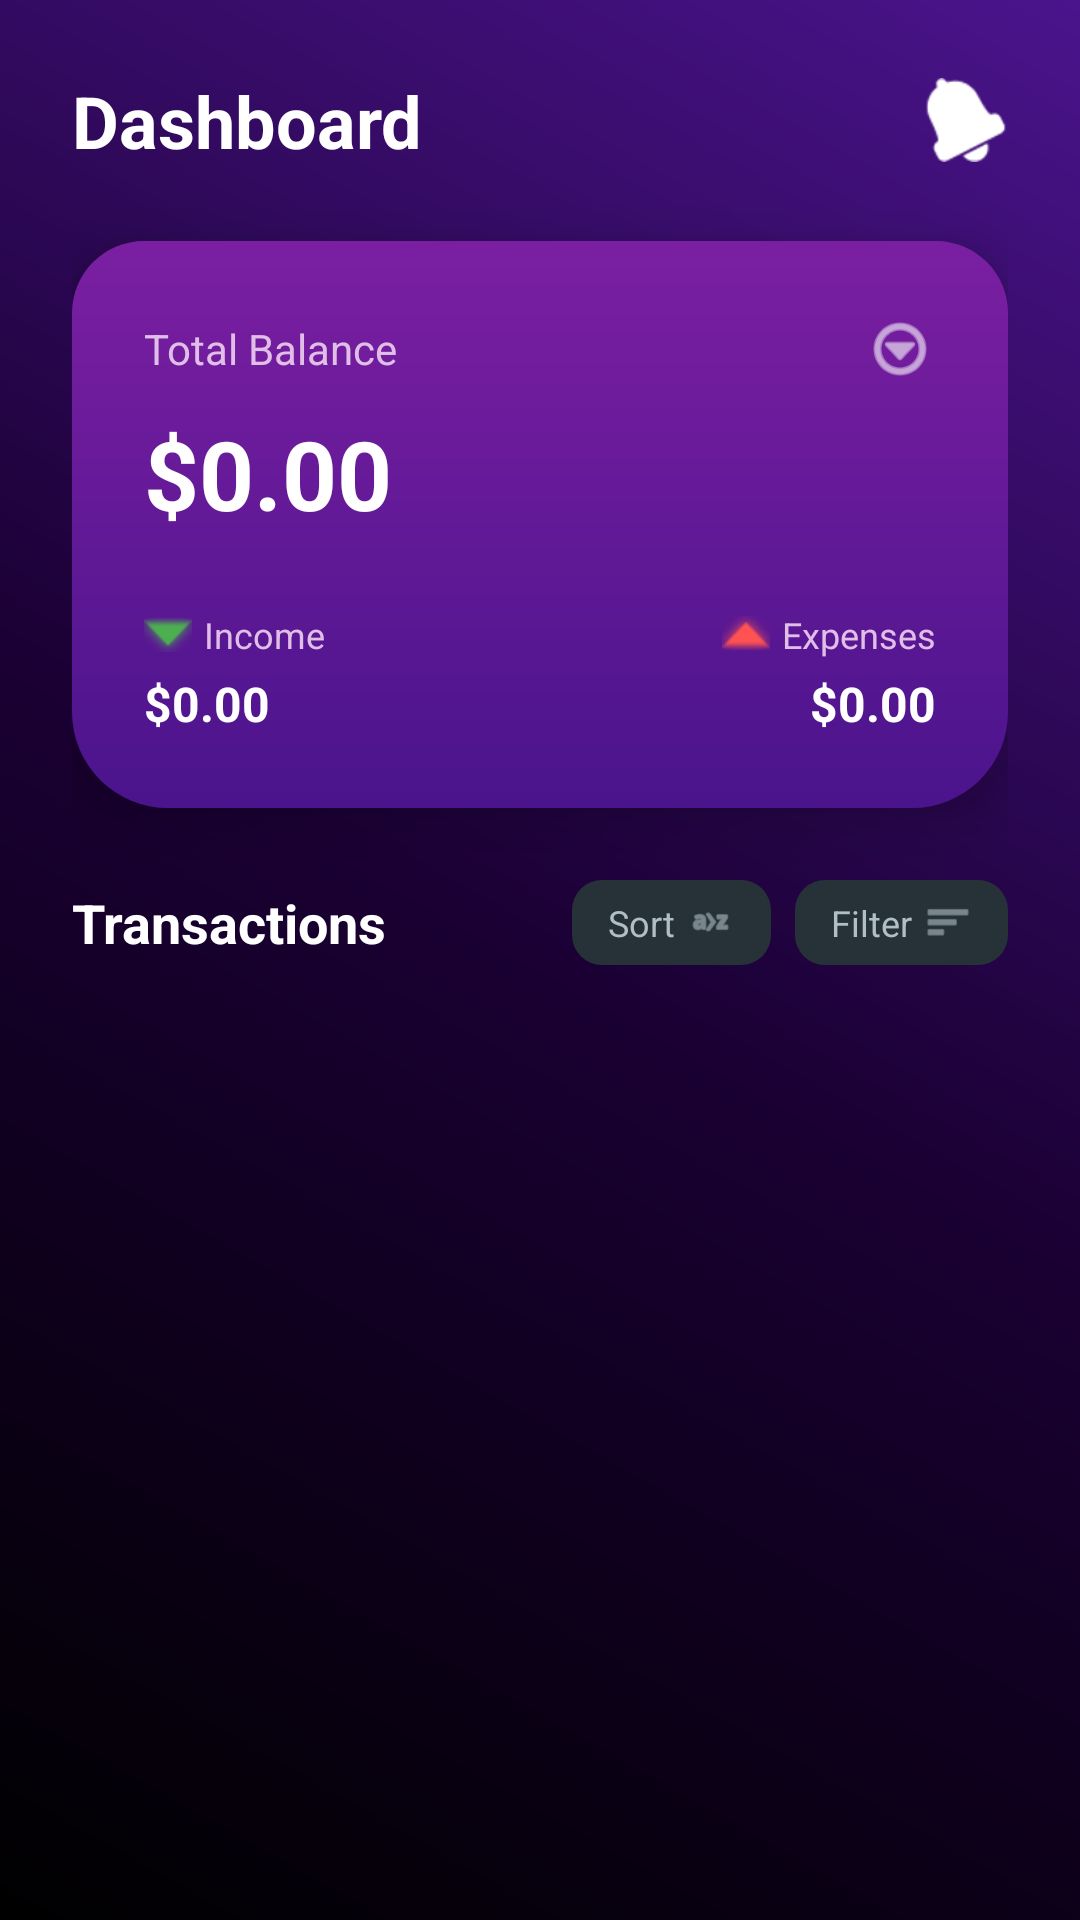

Icons on this 1080px x 1920px Android screen, each with its box as (x1,y1,x2,y2):
arrow down float: (144,619,192,648)
arrow up float: (722,619,770,649)
more: (873,322,927,376)
popup reminder: (926,78,1006,162)
sort by size: (927,909,969,936)
